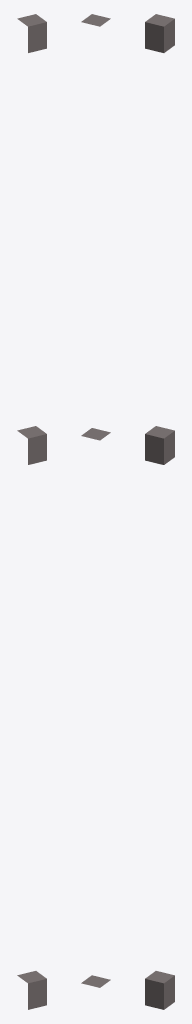
The picture shows the model from 3 angles, left to right: view 1: azimuth 30°, elevation 25°; view 2: azimuth 150°, elevation 25°; view 3: azimuth 330°, elevation 25°; orthographic projection.
Size of the model in its own units: 3 by 148 by 3.
1 material, 1 textured.
